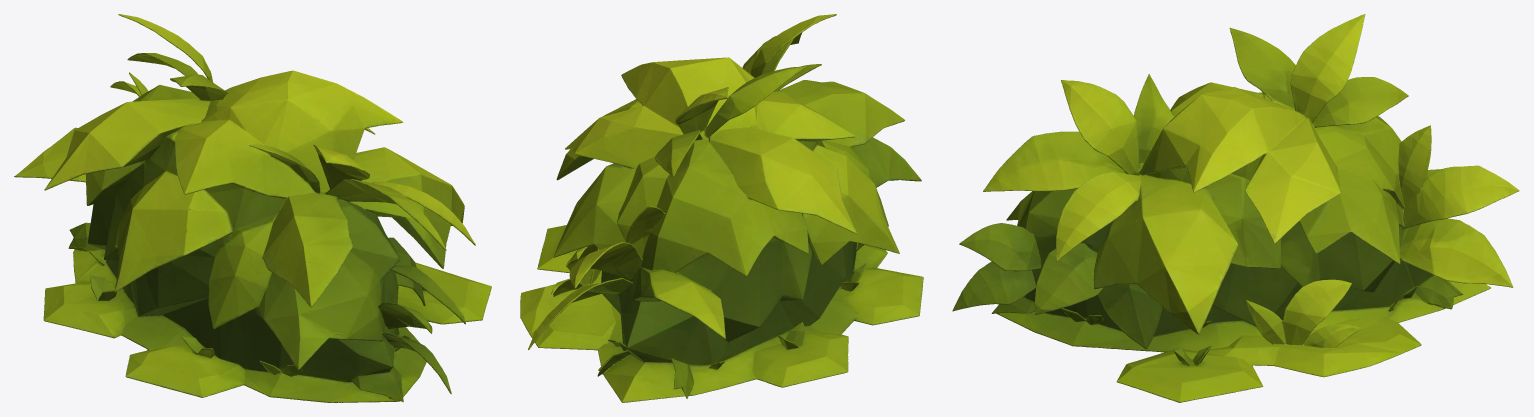
The model's file is KeepSakeGrassBush.glb.
The picture shows the model from 3 angles, left to right: view 1: azimuth 30°, elevation 25°; view 2: azimuth 150°, elevation 25°; view 3: azimuth 270°, elevation 25°; orthographic projection. The views are drawn at different scales.
Parts seen in each view (by area): view 1: tripo_node_5da222b8-9748-4b36-bde0-0e8915614762; view 2: tripo_node_5da222b8-9748-4b36-bde0-0e8915614762; view 3: tripo_node_5da222b8-9748-4b36-bde0-0e8915614762.
Boxes of the visible parts, box(x1,y1,x2,y2) form: tripo_node_5da222b8-9748-4b36-bde0-0e8915614762: box(14, 14, 491, 402); tripo_node_5da222b8-9748-4b36-bde0-0e8915614762: box(520, 14, 923, 402); tripo_node_5da222b8-9748-4b36-bde0-0e8915614762: box(952, 14, 1519, 402).
Bounding box in the file's own units: 0.7275 × 0.4965 × 0.9831.
1 material, 1 textured.
